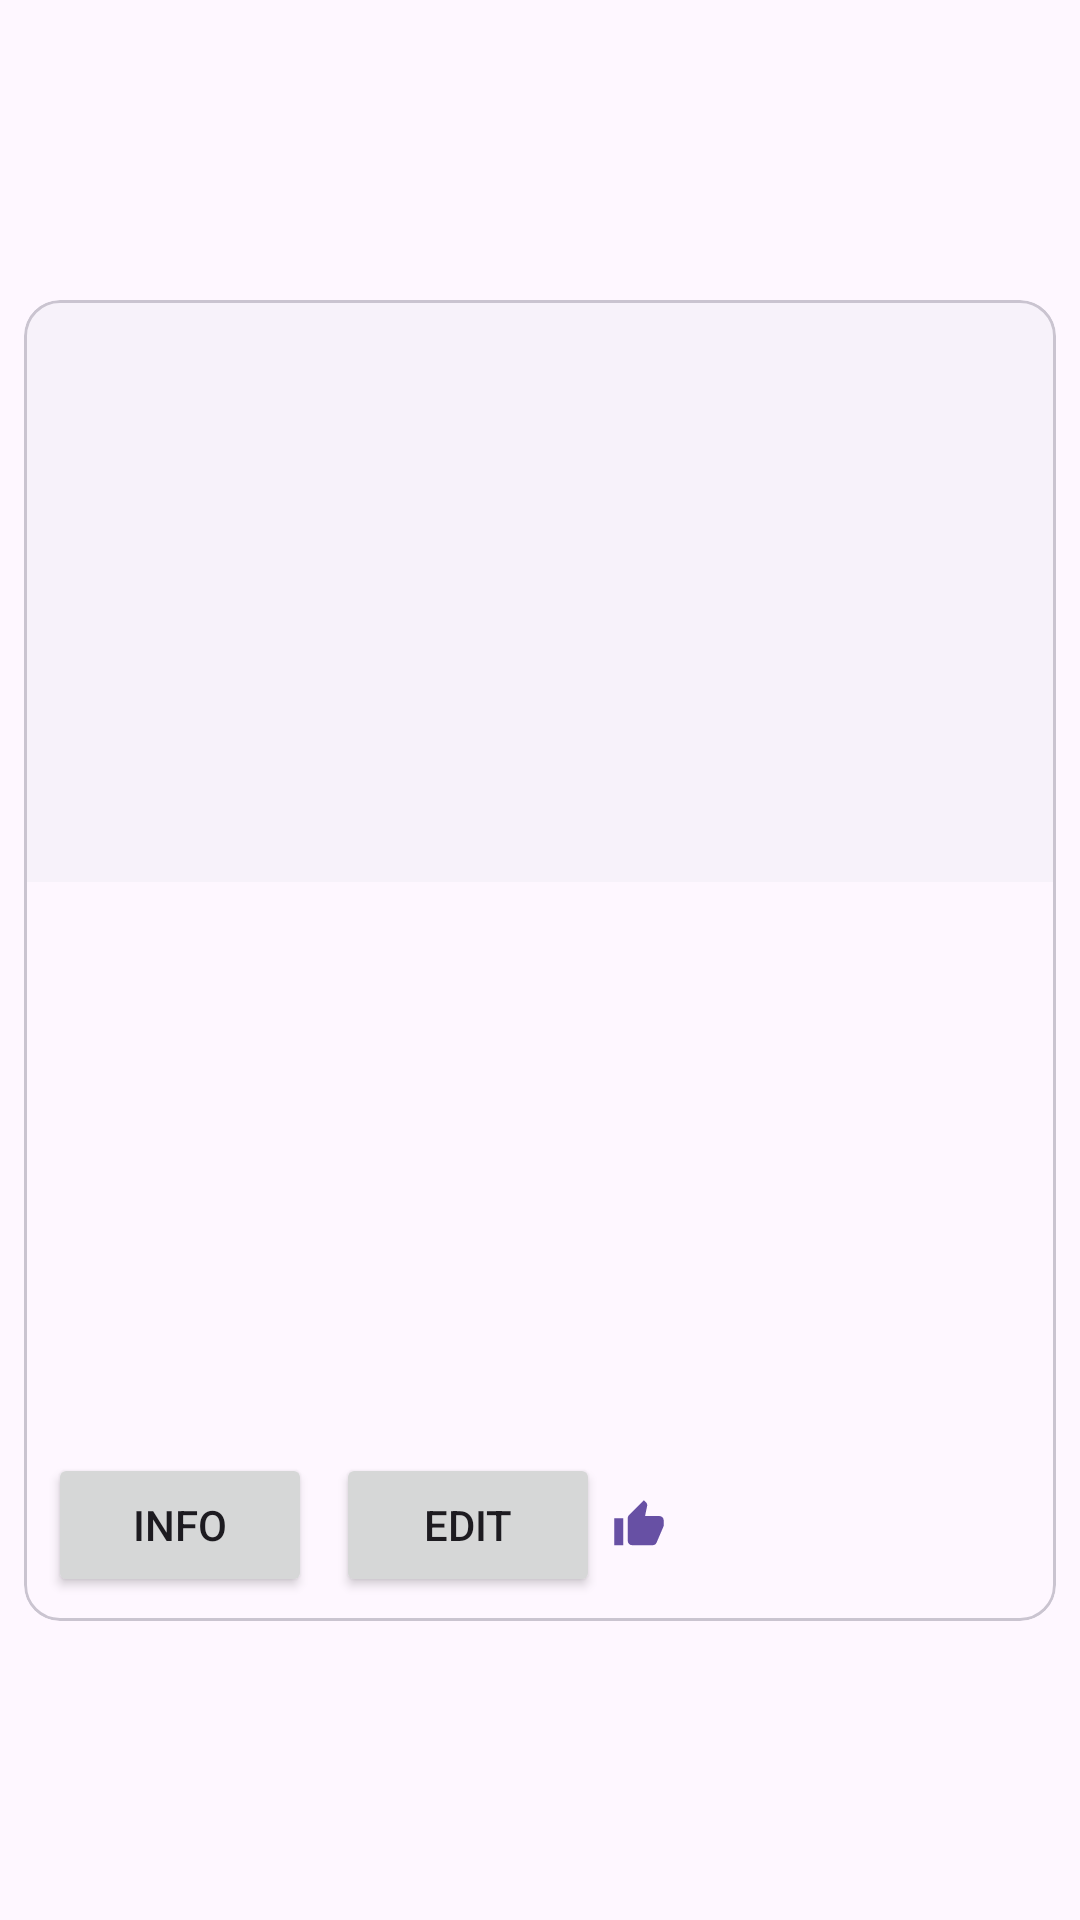

Screen size 1080px x 1920px. Icon name, then its center in pixels as [x,y]:
Like: [639,1523]
